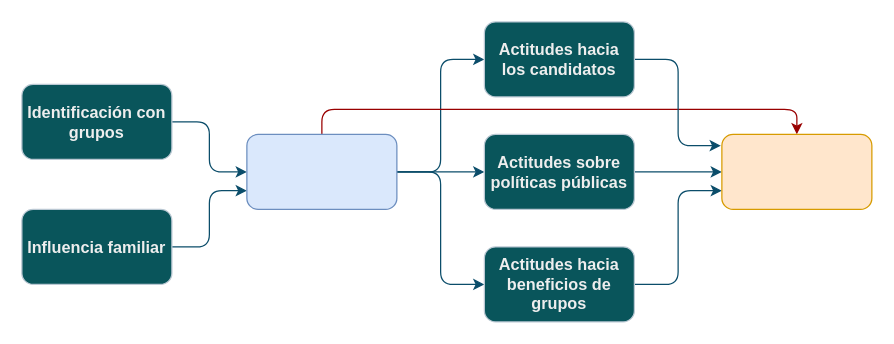
Some shapes in this 894 by 344 pixel diagram are drawn without their labels. The shapes that lost their labels are listed below. From the top down, each one's centre as x and y in pixels, then its label:
At point 321,171: "Identificación partidaria".
At point 796,171: "Voto".
